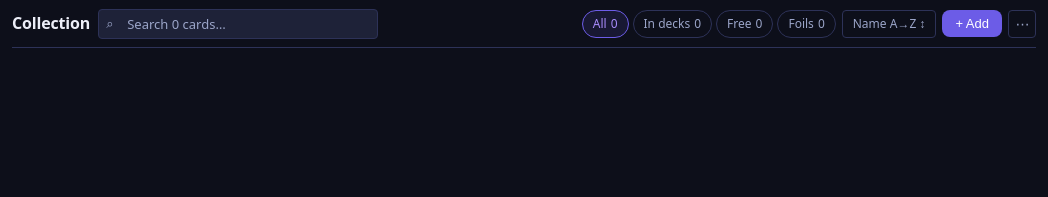
Test: Collection ⋯ menu — Trade calculator entry › opens Trade and closes the menu
Click the button named "More options" at (1022, 24), box x1=1008 y1=10 x2=1036 y2=38
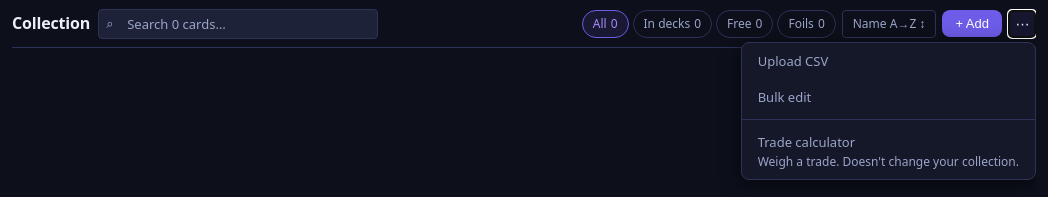
Click the button "Trade calculator" at (888, 151), box x1=742 y1=124 x2=1035 y2=178
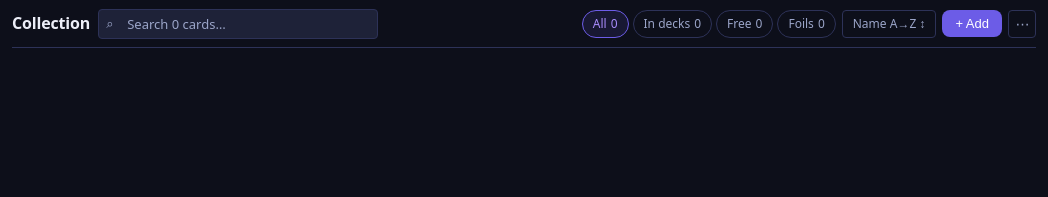
Now the menu is gone
